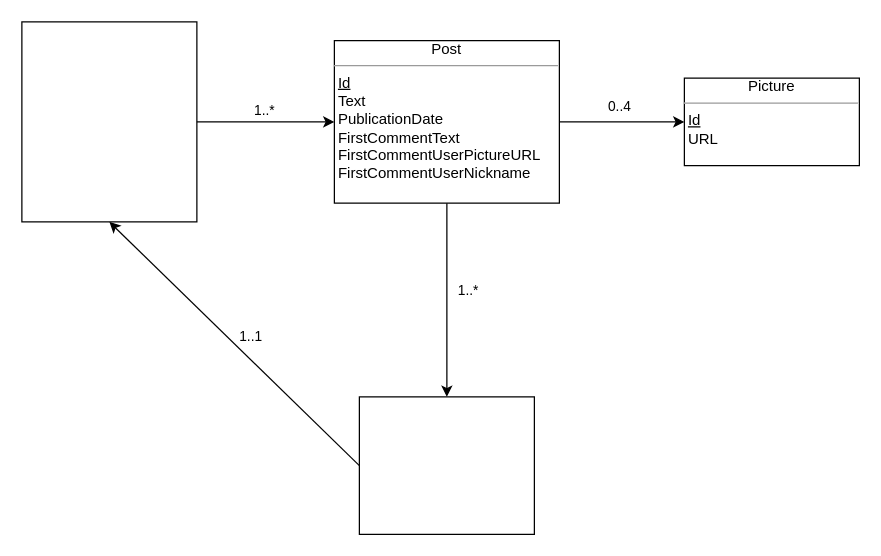
Image size: 881x556. Some labels were removed from this diagram. The shapes that lost their labels are listed below. From the top down, each one's box as (x1, y1, x2, y2) in pixels, then its label:
(21, 21, 197, 222): User Id FirstName LastName NickNameProfile PictureURL BirthDate Email Password
(358, 396, 534, 534): Comment Id Text PublicationDate UserPseudo PictureUserURL
